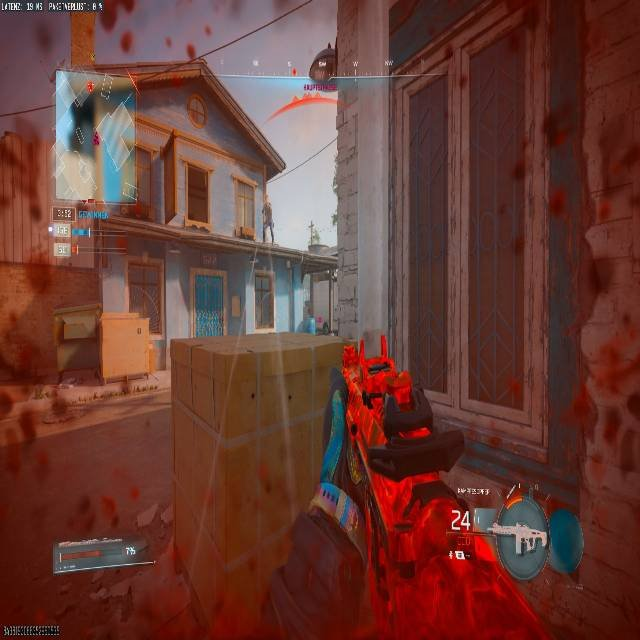player: (318, 320, 329, 335)
